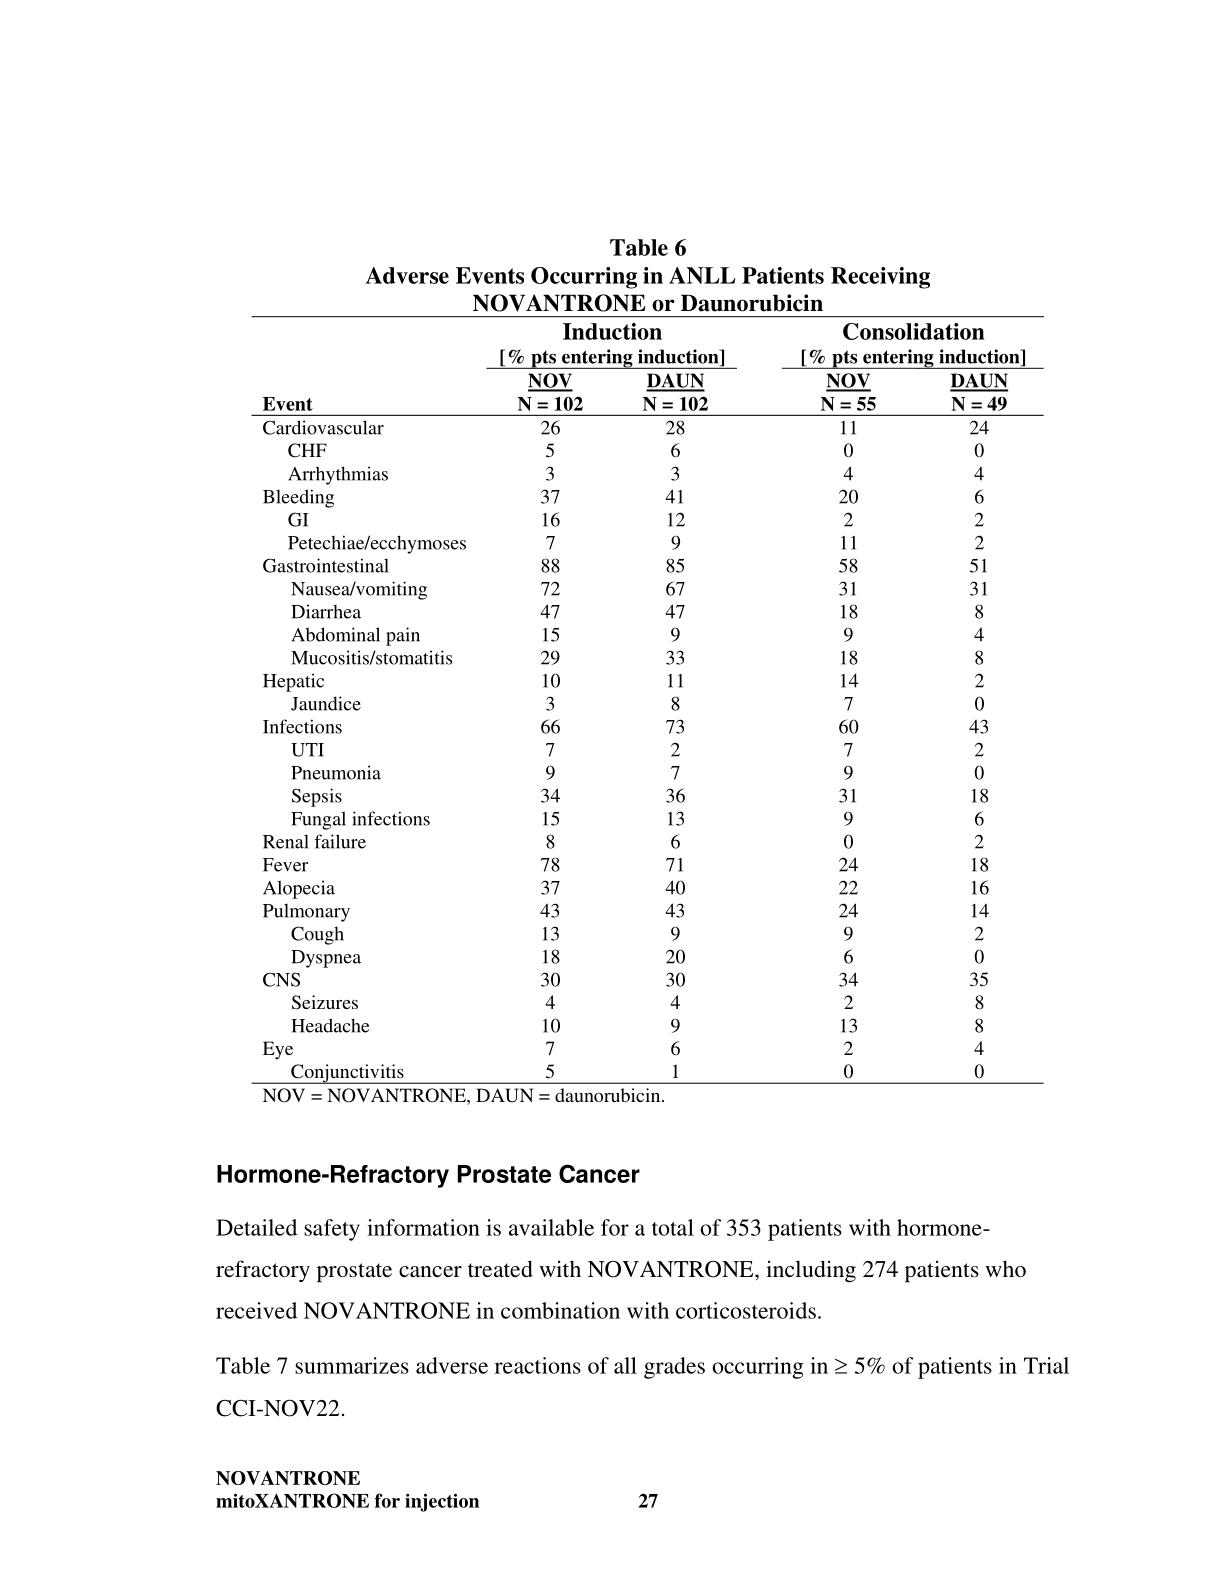partial_lined_merged_cells: (248, 314, 1048, 1085)
